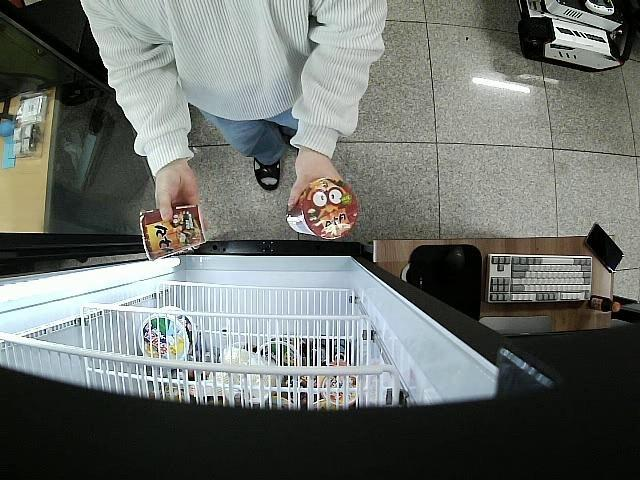06_nuguri_S: (286, 178, 358, 240), (140, 204, 207, 261)
